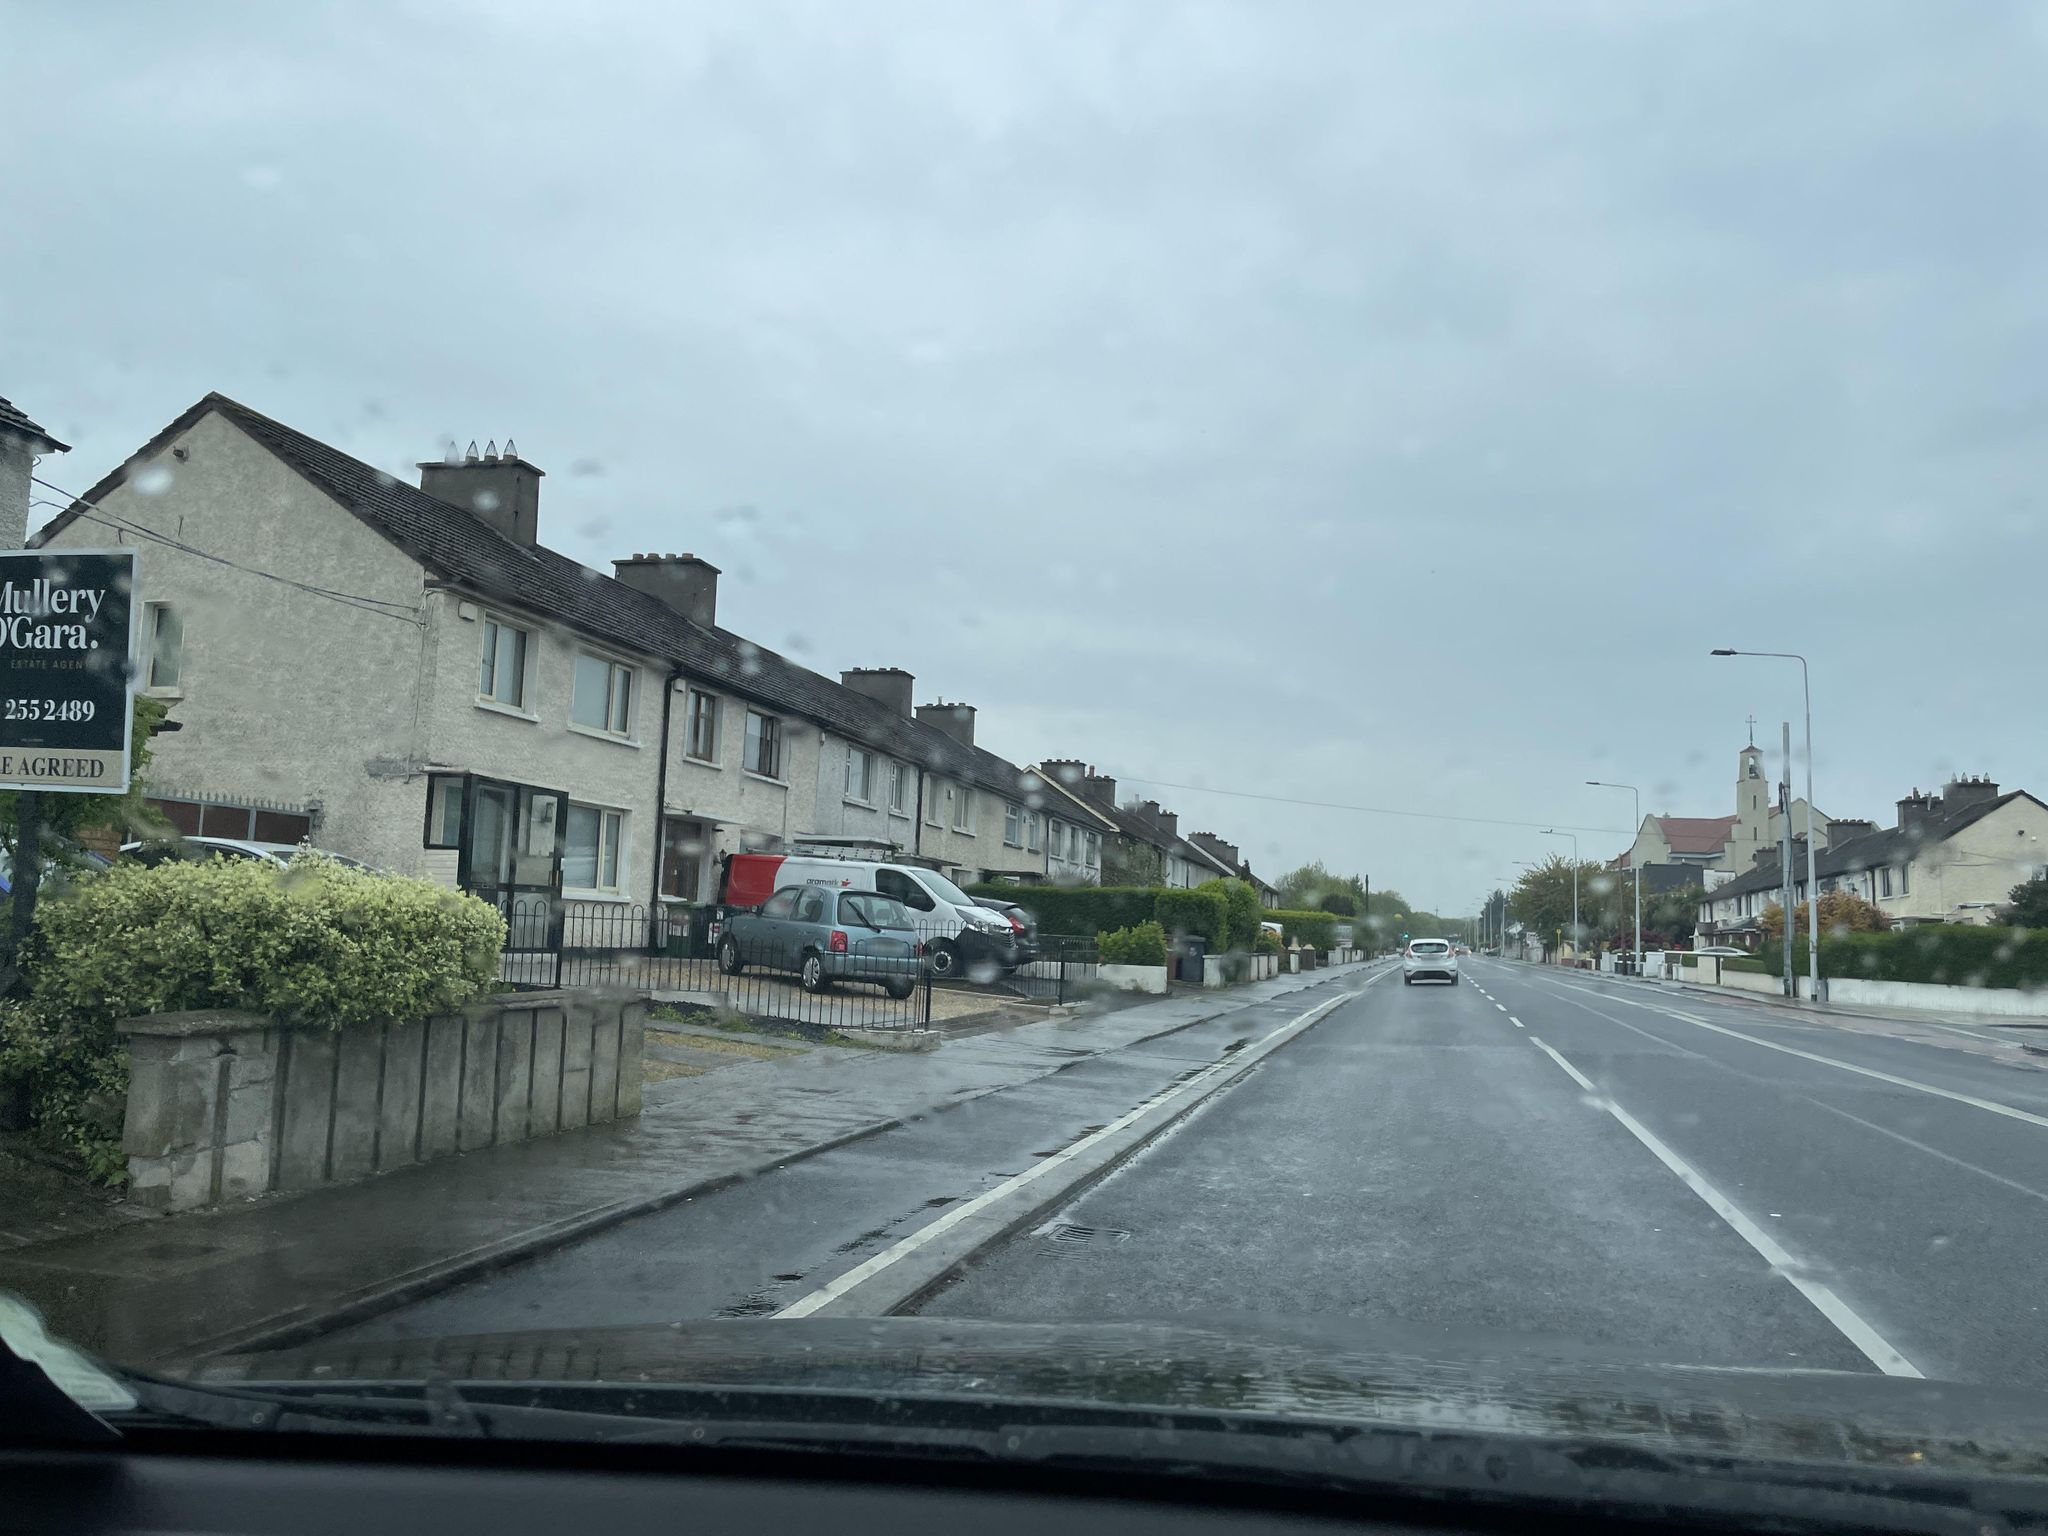property sign: (2, 521, 161, 813)
